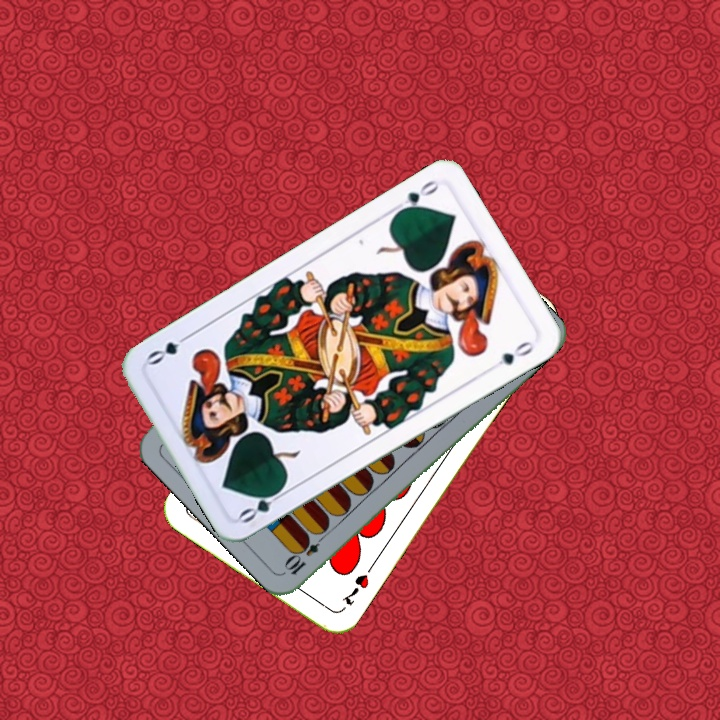E10: (281, 528, 330, 578)
GO: (235, 482, 290, 526), (388, 175, 442, 218)
H7: (338, 560, 377, 608)
